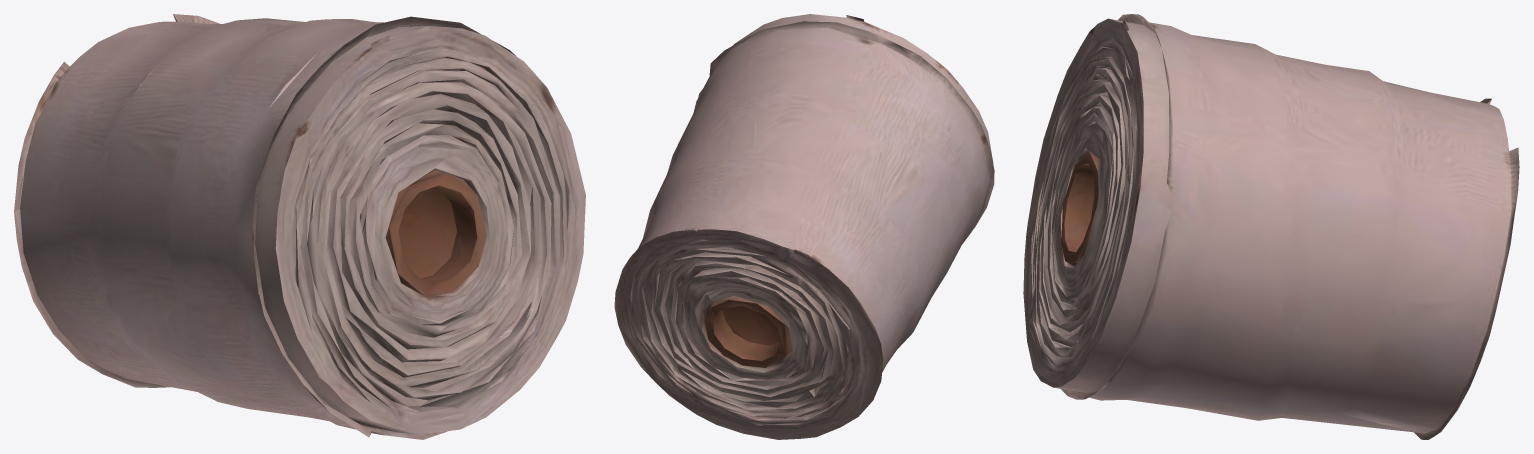
Rendered from bandage_sterilnyy_idle.glb.
3 renders of one model, left to right at view 1: azimuth 30°, elevation 25°; view 2: azimuth 150°, elevation 25°; view 3: azimuth 270°, elevation 25°, orthographic. The views are drawn at different scales.
Visible parts, largest first — view 1: tripo_node_0eb2a574-3d5c-4e5c-b402-f93811a0aaed; view 2: tripo_node_0eb2a574-3d5c-4e5c-b402-f93811a0aaed; view 3: tripo_node_0eb2a574-3d5c-4e5c-b402-f93811a0aaed.
Boxes of the visible parts, x1=… form: tripo_node_0eb2a574-3d5c-4e5c-b402-f93811a0aaed: x1=14, y1=14, x2=585, y2=439; tripo_node_0eb2a574-3d5c-4e5c-b402-f93811a0aaed: x1=614, y1=14, x2=994, y2=439; tripo_node_0eb2a574-3d5c-4e5c-b402-f93811a0aaed: x1=1023, y1=14, x2=1519, y2=439.
Bounding box in the file's own units: 0.0998 × 0.1064 × 0.1158.
1 material, 1 textured.
